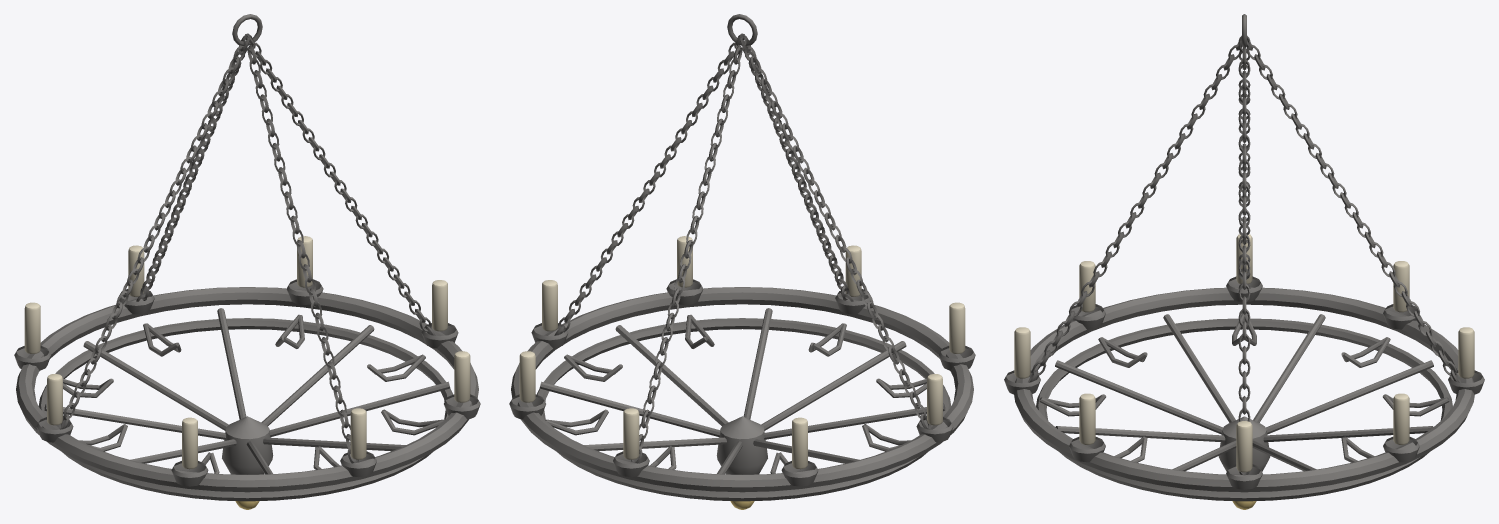
File: obj_kit_chandelier.glb
3 renders of one model, left to right at view 1: azimuth 30°, elevation 25°; view 2: azimuth 150°, elevation 25°; view 3: azimuth 270°, elevation 25°, orthographic.
Parts seen in each view (by area): view 1: Torus, Torus.001, ch.002, ch.003, ch, hub, ch.001, spoke.007, spoke.002, spoke.003, spoke, spoke.006 (+15 smaller); view 2: Torus, Torus.001, ch.002, ch.001, ch, hub, ch.003, spoke, spoke.005, spoke.004, spoke.007, spoke.001 (+15 smaller); view 3: Torus, Torus.001, ch.001, ch.003, ch, spoke.002, spoke.005, hub, spoke.001, spoke.006, ch.002, spoke.003 (+12 smaller).
Boxes of the visible parts, box(x1,y1,x2,y2) form: Torus: box(16, 287, 478, 492); Torus.001: box(38, 318, 452, 501); ch.002: box(58, 33, 249, 429); ch.003: box(243, 33, 358, 463); ch: box(245, 34, 435, 335); hub: box(222, 416, 273, 474); ch.001: box(136, 34, 250, 301); spoke.007: box(269, 381, 450, 437); spoke.002: box(83, 341, 228, 430); spoke.003: box(44, 404, 225, 439); spoke: box(261, 325, 374, 426); spoke.006: box(263, 437, 405, 451); Torus: box(511, 287, 973, 492); Torus.001: box(537, 318, 951, 501); ch.002: box(740, 33, 931, 429); ch.001: box(631, 33, 746, 463); ch: box(554, 34, 744, 335); hub: box(716, 416, 767, 474); ch.003: box(739, 34, 853, 301); spoke: box(539, 381, 720, 437); spoke.005: box(761, 341, 906, 430); spoke.004: box(764, 404, 945, 439); spoke.007: box(615, 325, 728, 426); spoke.001: box(584, 437, 726, 451); Torus: box(1014, 287, 1474, 492); Torus.001: box(1036, 318, 1452, 501); ch.001: box(1247, 40, 1460, 382); ch.003: box(1028, 40, 1241, 382); ch: box(1238, 35, 1250, 474); spoke.002: box(1266, 360, 1433, 434); spoke.005: box(1055, 360, 1222, 434); hub: box(1218, 416, 1270, 471); spoke.001: box(1263, 426, 1433, 442); spoke.006: box(1055, 426, 1225, 442); ch.002: box(1238, 36, 1250, 288); spoke.003: box(1253, 314, 1325, 422).
Bounding box in the file's own units: 1.3 × 1.47 × 1.3.
